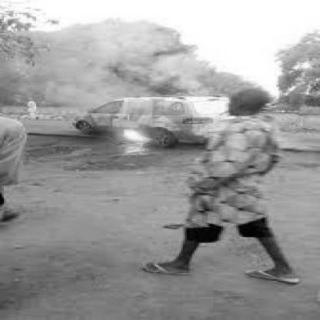Smoke: (61, 19, 150, 74)
